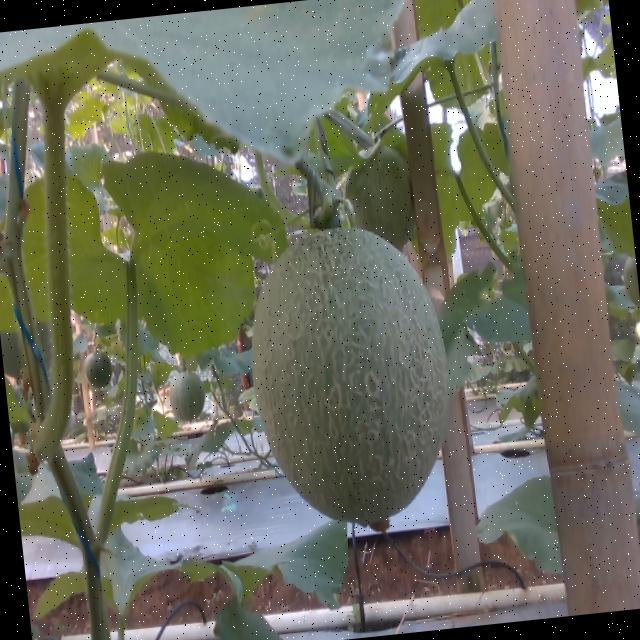melon: (252, 229, 450, 524)
